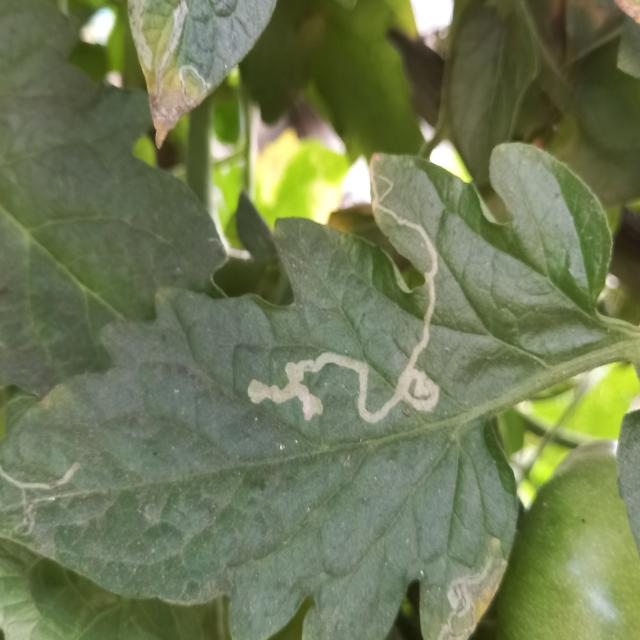Tuta absoluta: (242, 204, 517, 491)
